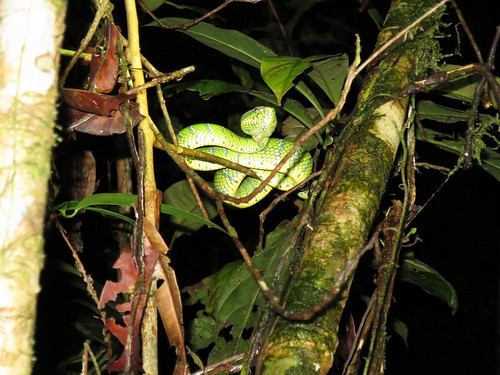animal: (164, 80, 311, 224)
vegetation: (1, 1, 494, 366)
